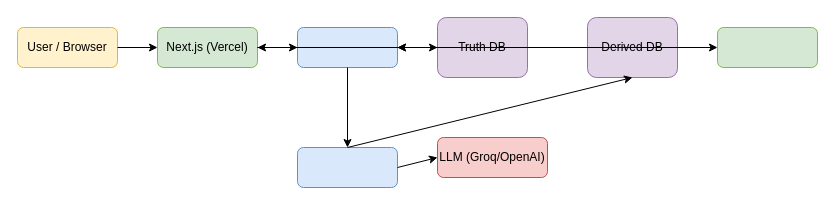
This 835x205 diagram has some shape labels left out. Here are the shapes that lost their labels. From the top down, the box of each, then its label:
(296, 26, 398, 68): Python API
(716, 26, 818, 68): Dashboards
(296, 146, 398, 188): Analysis Agent
